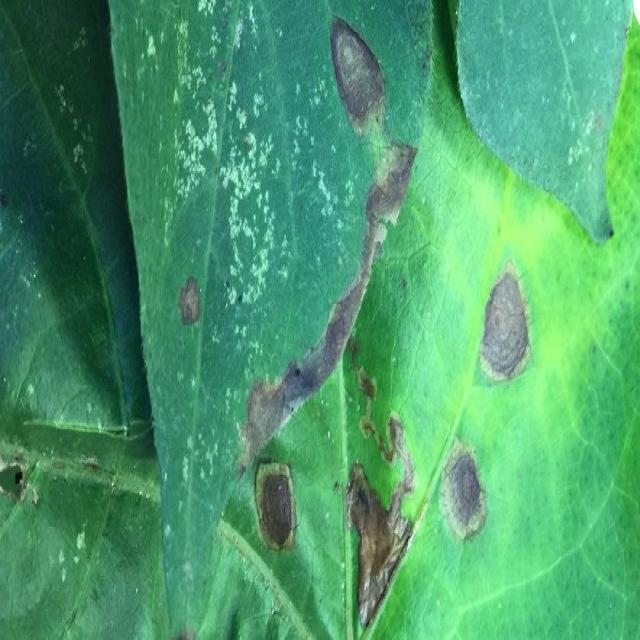Bacterial Blight: (176, 272, 203, 331)
Target Spot: (326, 14, 388, 142), (475, 260, 534, 390), (436, 439, 489, 549), (251, 454, 299, 559)
